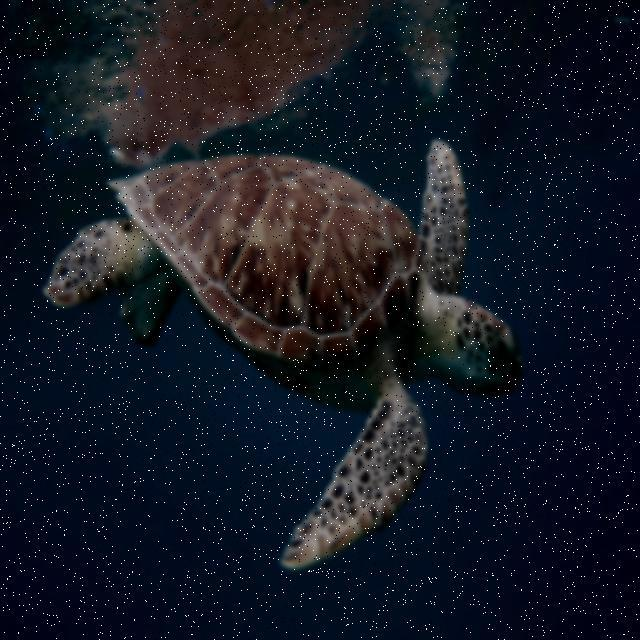tortoise: (57, 140, 519, 558)
